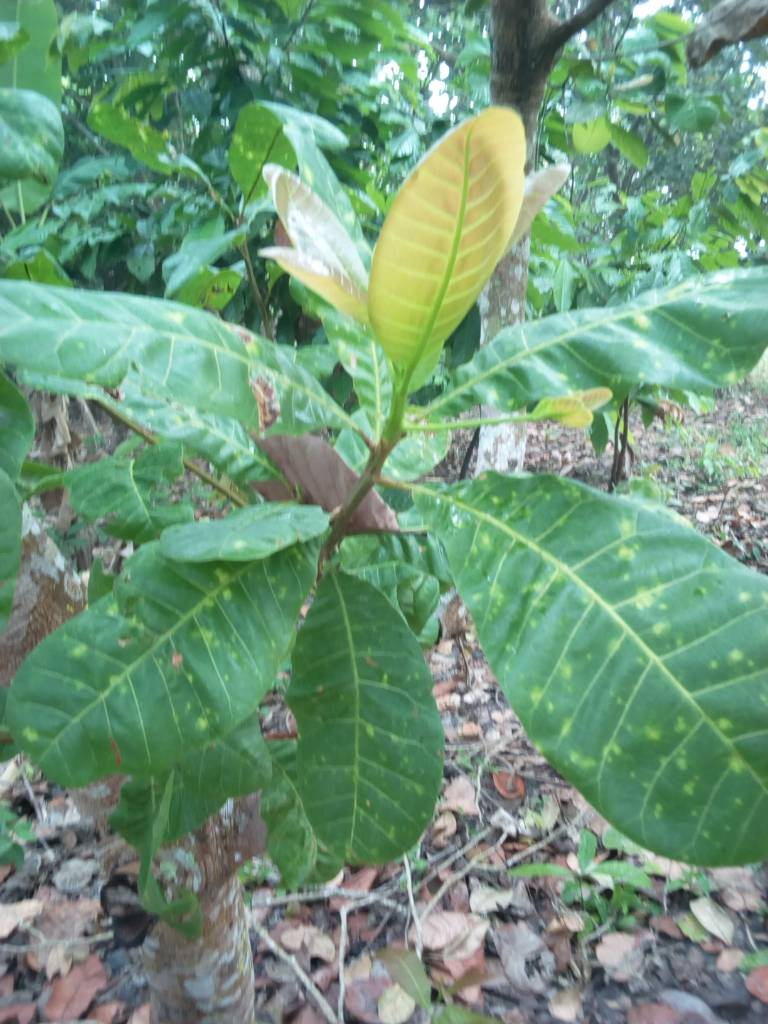Carence minérale: (435, 466, 768, 877), (11, 513, 321, 789), (4, 274, 347, 450), (291, 575, 446, 869), (455, 274, 768, 405)
